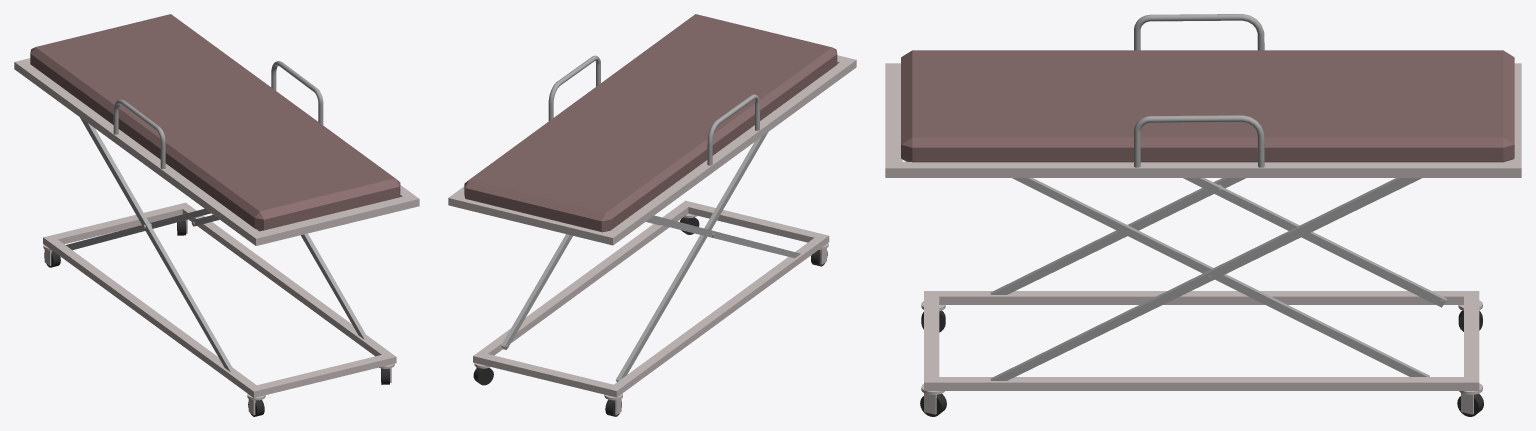
Rendered from gurney.fbx.
3 renders of one model, left to right at view 1: azimuth 30°, elevation 25°; view 2: azimuth 150°, elevation 25°; view 3: azimuth 270°, elevation 25°, orthographic. The views are drawn at different scales.
Parts seen in each view (by area): view 1: Gurney; view 2: Gurney; view 3: Gurney.
Part boxes in pixels (<box>): Gurney: <box>14,14,419,416</box>; Gurney: <box>448,14,856,416</box>; Gurney: <box>885,14,1521,416</box>.
Size of the model in its own units: 11.45 by 15.6 by 29.3.
